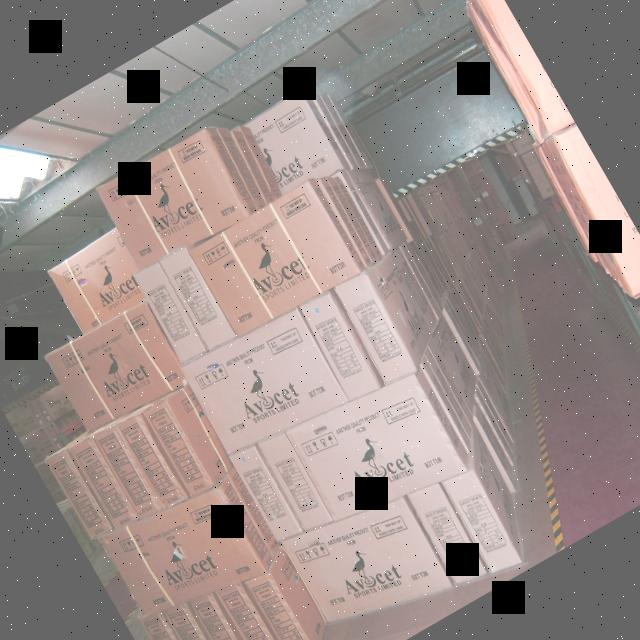box: (95, 110, 282, 276), (274, 473, 454, 640), (50, 383, 234, 542), (182, 302, 352, 471)
